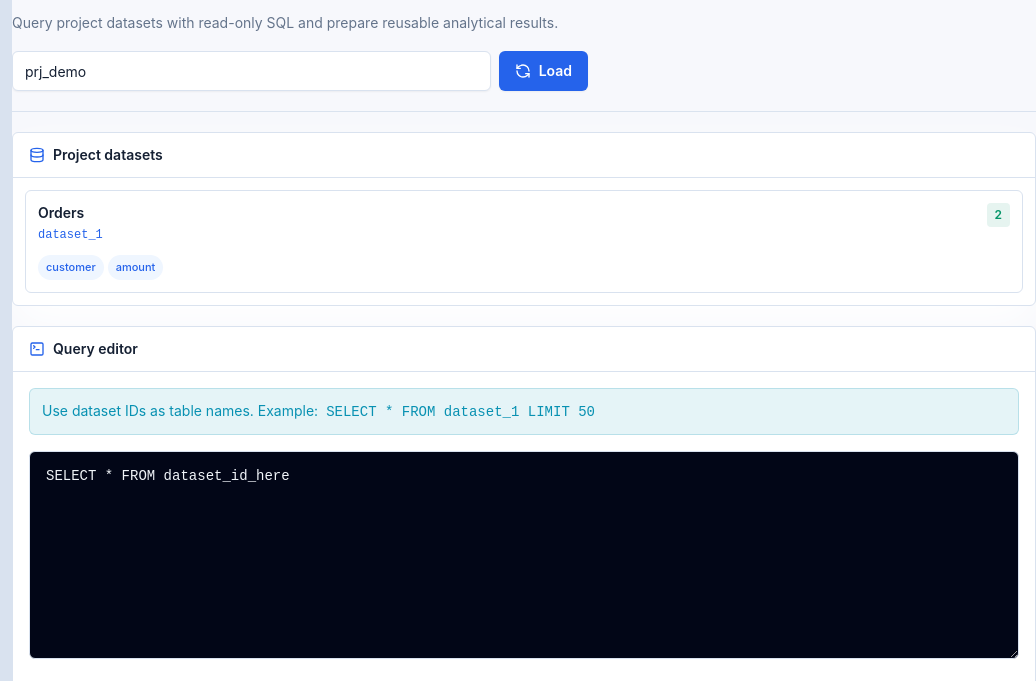
Test: SqlWorkspacePage › loads dataset aliases and runs a read-only SQL query
The image size is (1036, 681).
Expected: the text "Orders" is shown, x1=38 y1=204 x2=84 y2=221
Expected: the text "dataset_1" is shown, x1=38 y1=227 x2=103 y2=243
Click the button "Orders dataset_1 2 customer amount". click: (61, 212)
box: x1=25 y1=190 x2=1023 y2=292
(page scrolled)
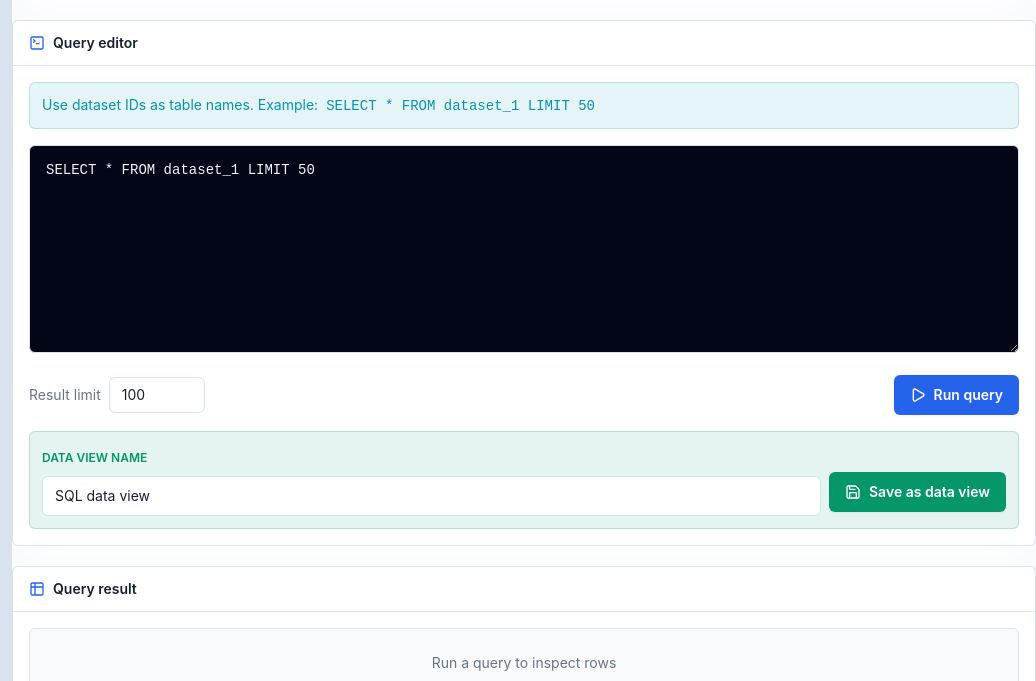
Click the button "Run query". click: (956, 394)
box: x1=894 y1=374 x2=1019 y2=414
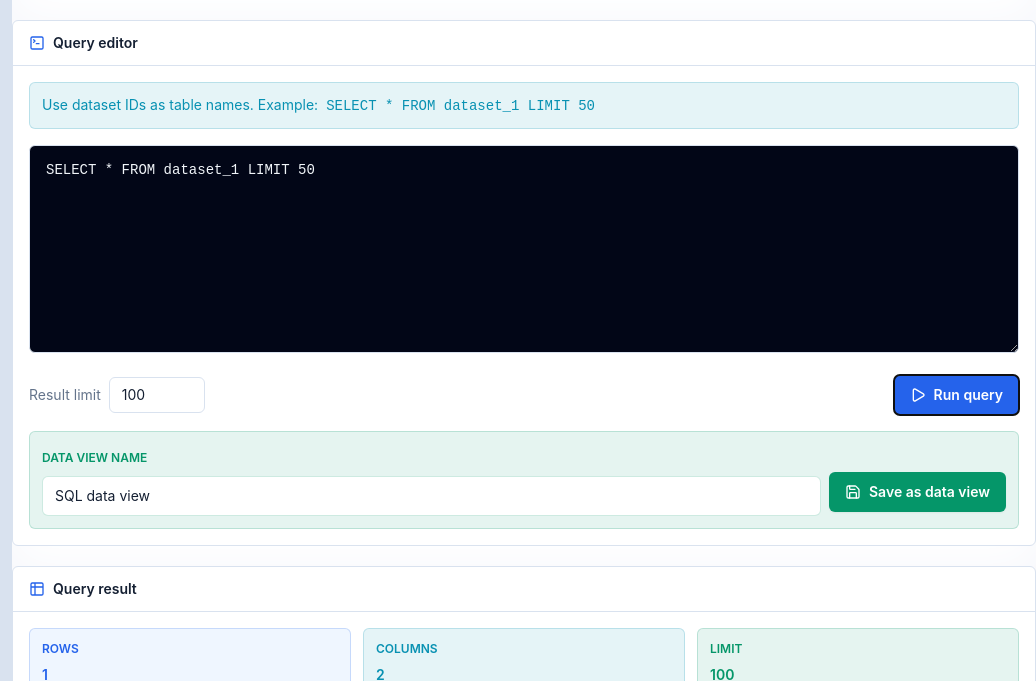
Replace the text in the field labelled "Data view name" with "Orders View". click: (432, 496)
box: x1=42 y1=476 x2=821 y2=516
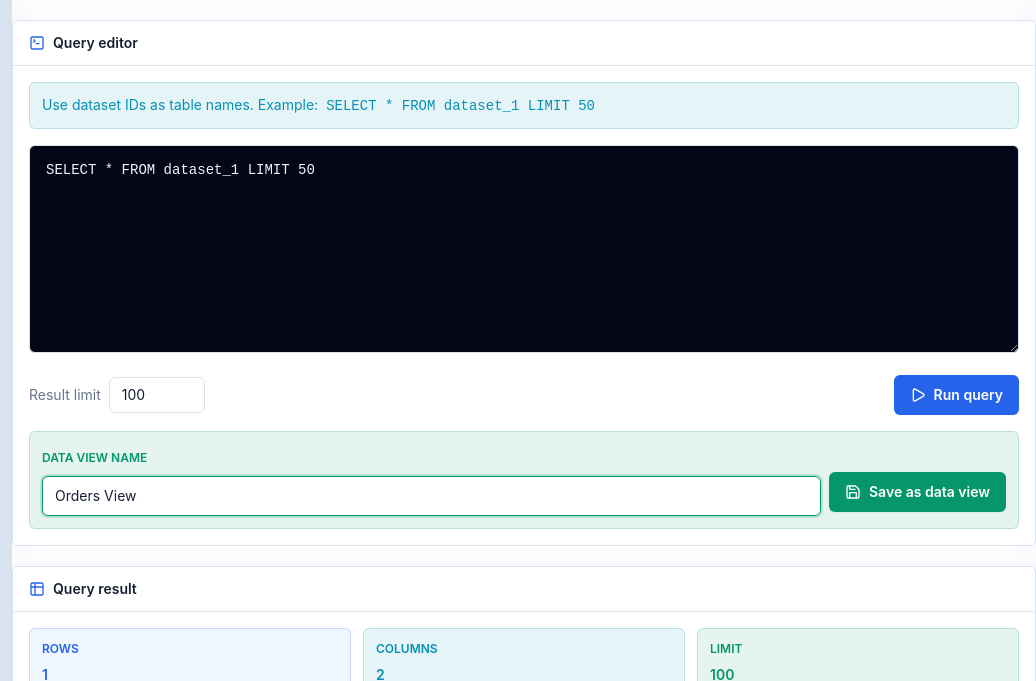
Click the button "Save as data view". click: (918, 492)
box: x1=829 y1=472 x2=1006 y2=512
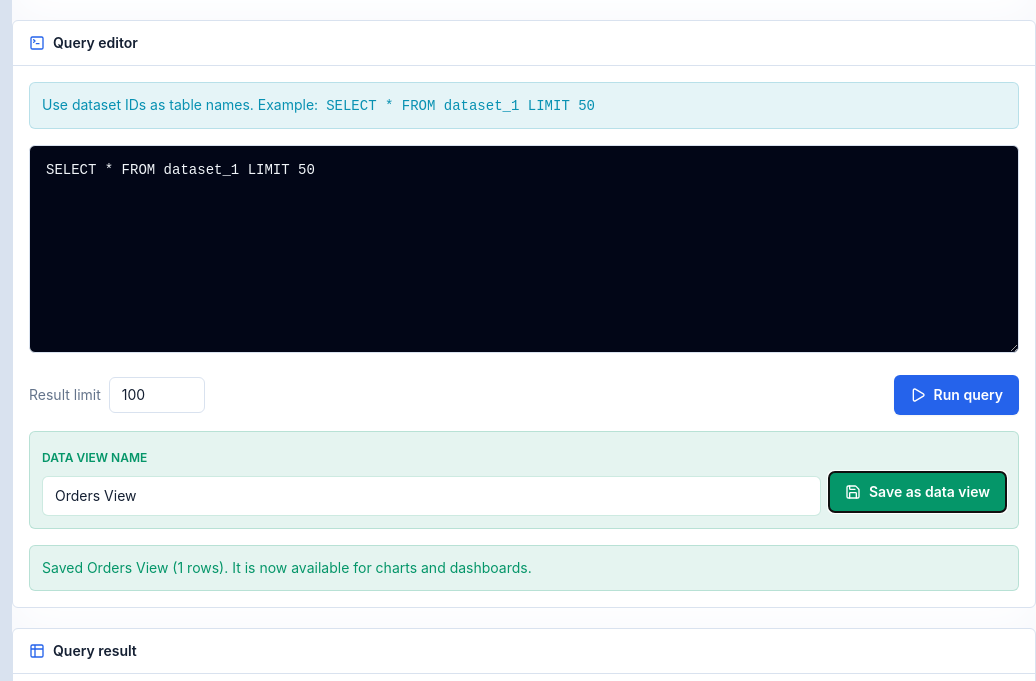
Now the text "Saved Orders View (1 rows)" is shown, box x1=29 y1=544 x2=1019 y2=590
